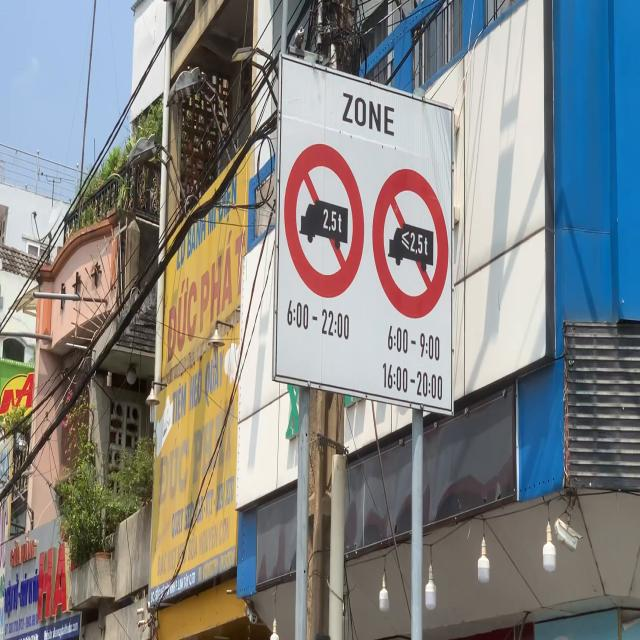Cam con lai: (283, 143, 365, 299), (372, 168, 449, 319)
